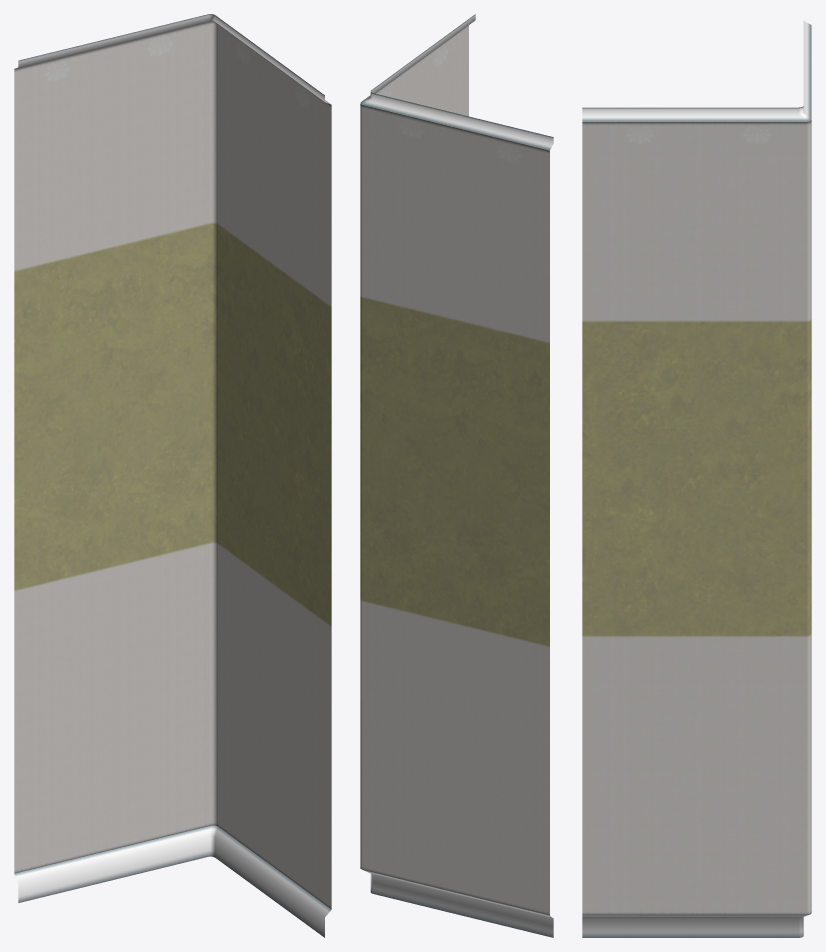
File: waitingroom_concave_short.dae
3 renders of one model, left to right at view 1: azimuth 30°, elevation 25°; view 2: azimuth 150°, elevation 25°; view 3: azimuth 270°, elevation 25°, orthographic. The views are drawn at different scales.
Parts seen in each view (by area): view 1: waitingroom_concave_short; view 2: waitingroom_concave_short; view 3: waitingroom_concave_short.
Part boxes in pixels (x1,y1,x2,y2): waitingroom_concave_short: [14, 14, 331, 937]; waitingroom_concave_short: [360, 14, 553, 937]; waitingroom_concave_short: [582, 21, 811, 937].
Size of the model in its own units: 100 by 400 by 100.
